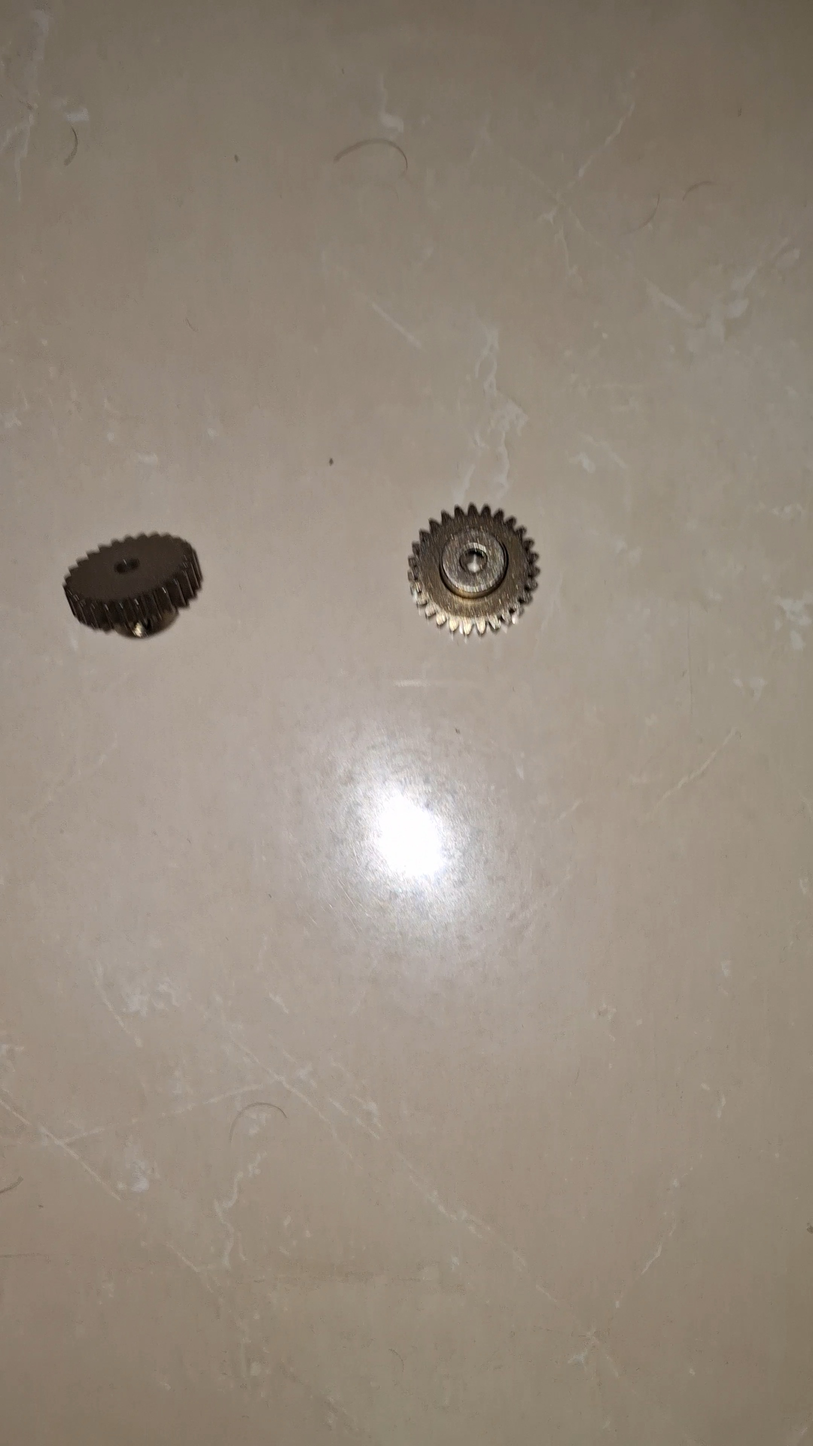spur gear: (408, 504, 537, 635), (64, 534, 202, 637)
